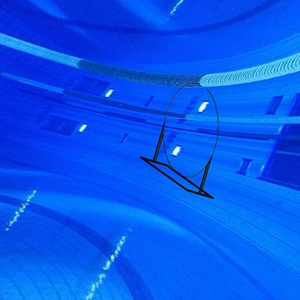circle: (139, 82, 221, 200)
